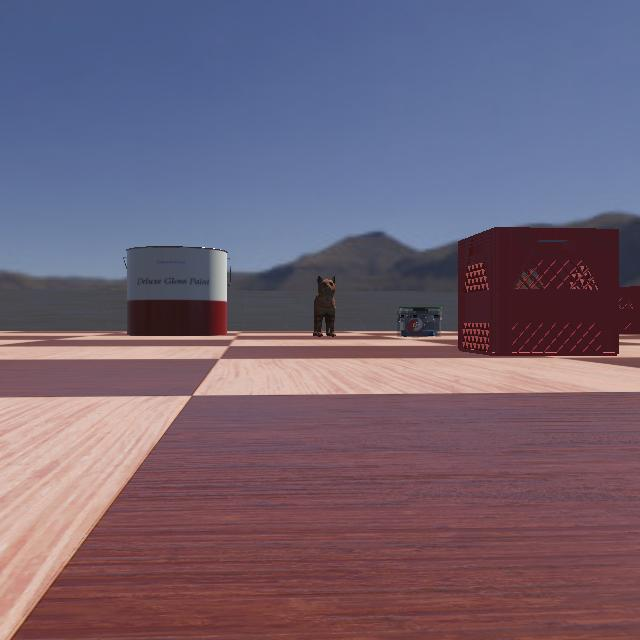cat: (311, 274, 337, 336), (311, 274, 337, 336), (311, 274, 337, 336)
paint-bucket: (104, 246, 236, 336), (104, 246, 236, 336)
plastic-crate: (454, 226, 624, 356)
